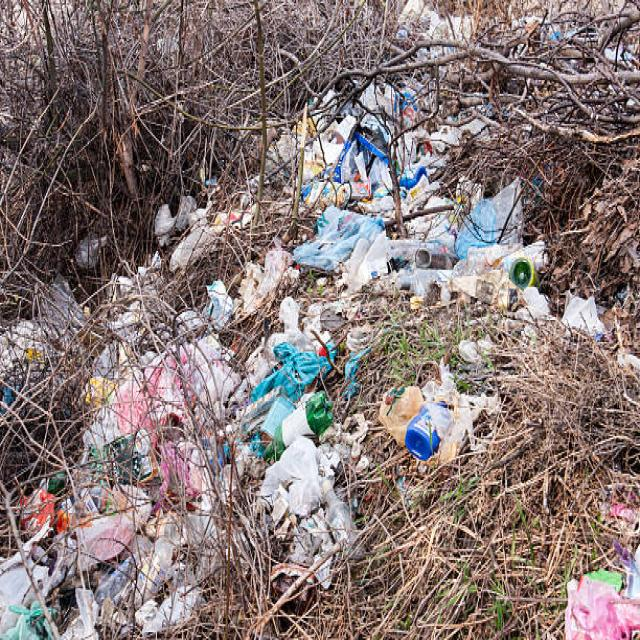plastic: (105, 314, 336, 554), (290, 90, 391, 274)
